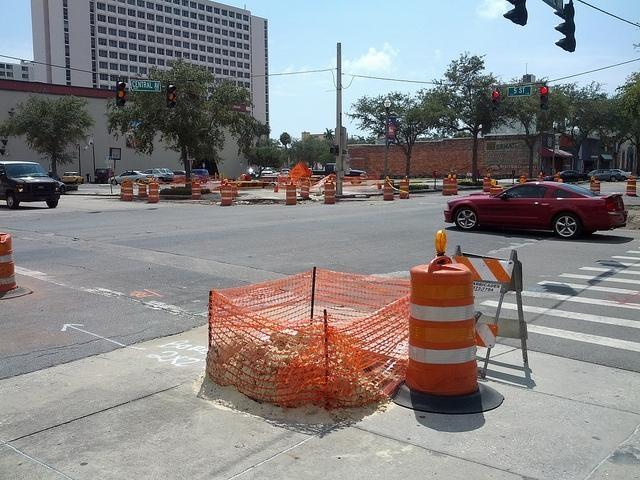car: (444, 180, 631, 237), (1, 159, 68, 210), (107, 170, 154, 186), (326, 163, 368, 176), (544, 170, 589, 182), (588, 169, 622, 182), (143, 168, 174, 181), (94, 168, 115, 183), (190, 168, 210, 183), (62, 171, 84, 184), (610, 169, 632, 181), (261, 168, 273, 176), (171, 170, 186, 176)
truck: (0, 161, 66, 208)
